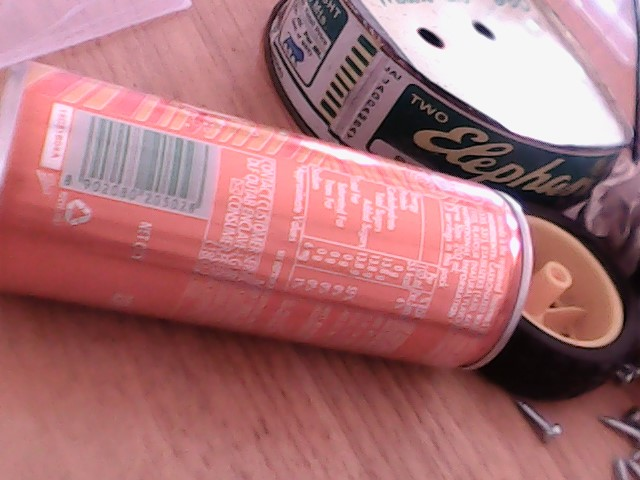Metal: (3, 31, 548, 372)
